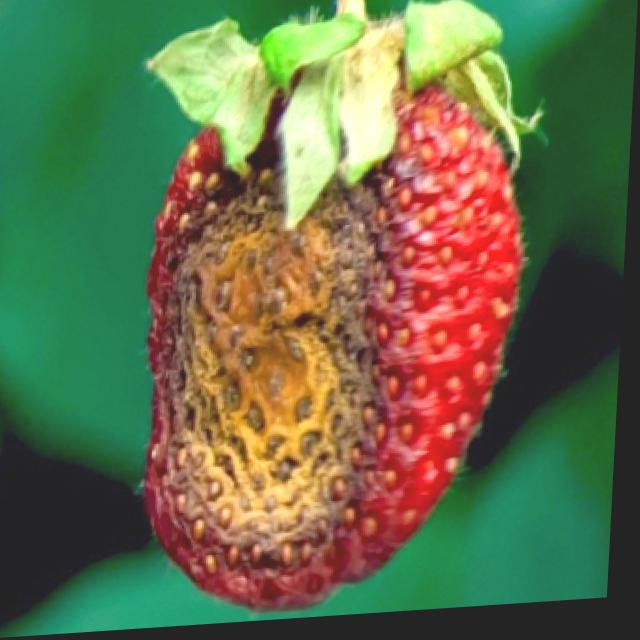Anthracnose Fruit Rot: (151, 91, 470, 609)
